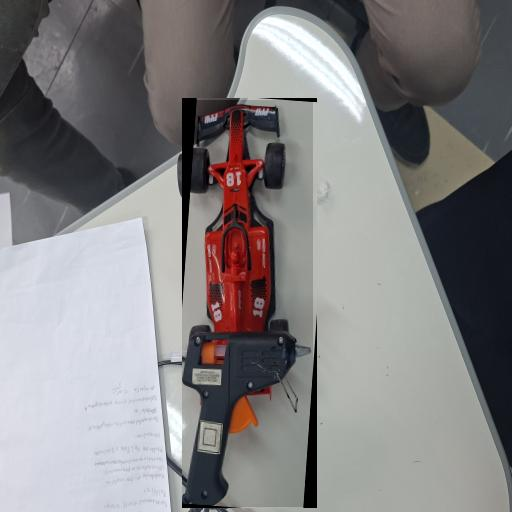carro: (182, 101, 313, 507)
